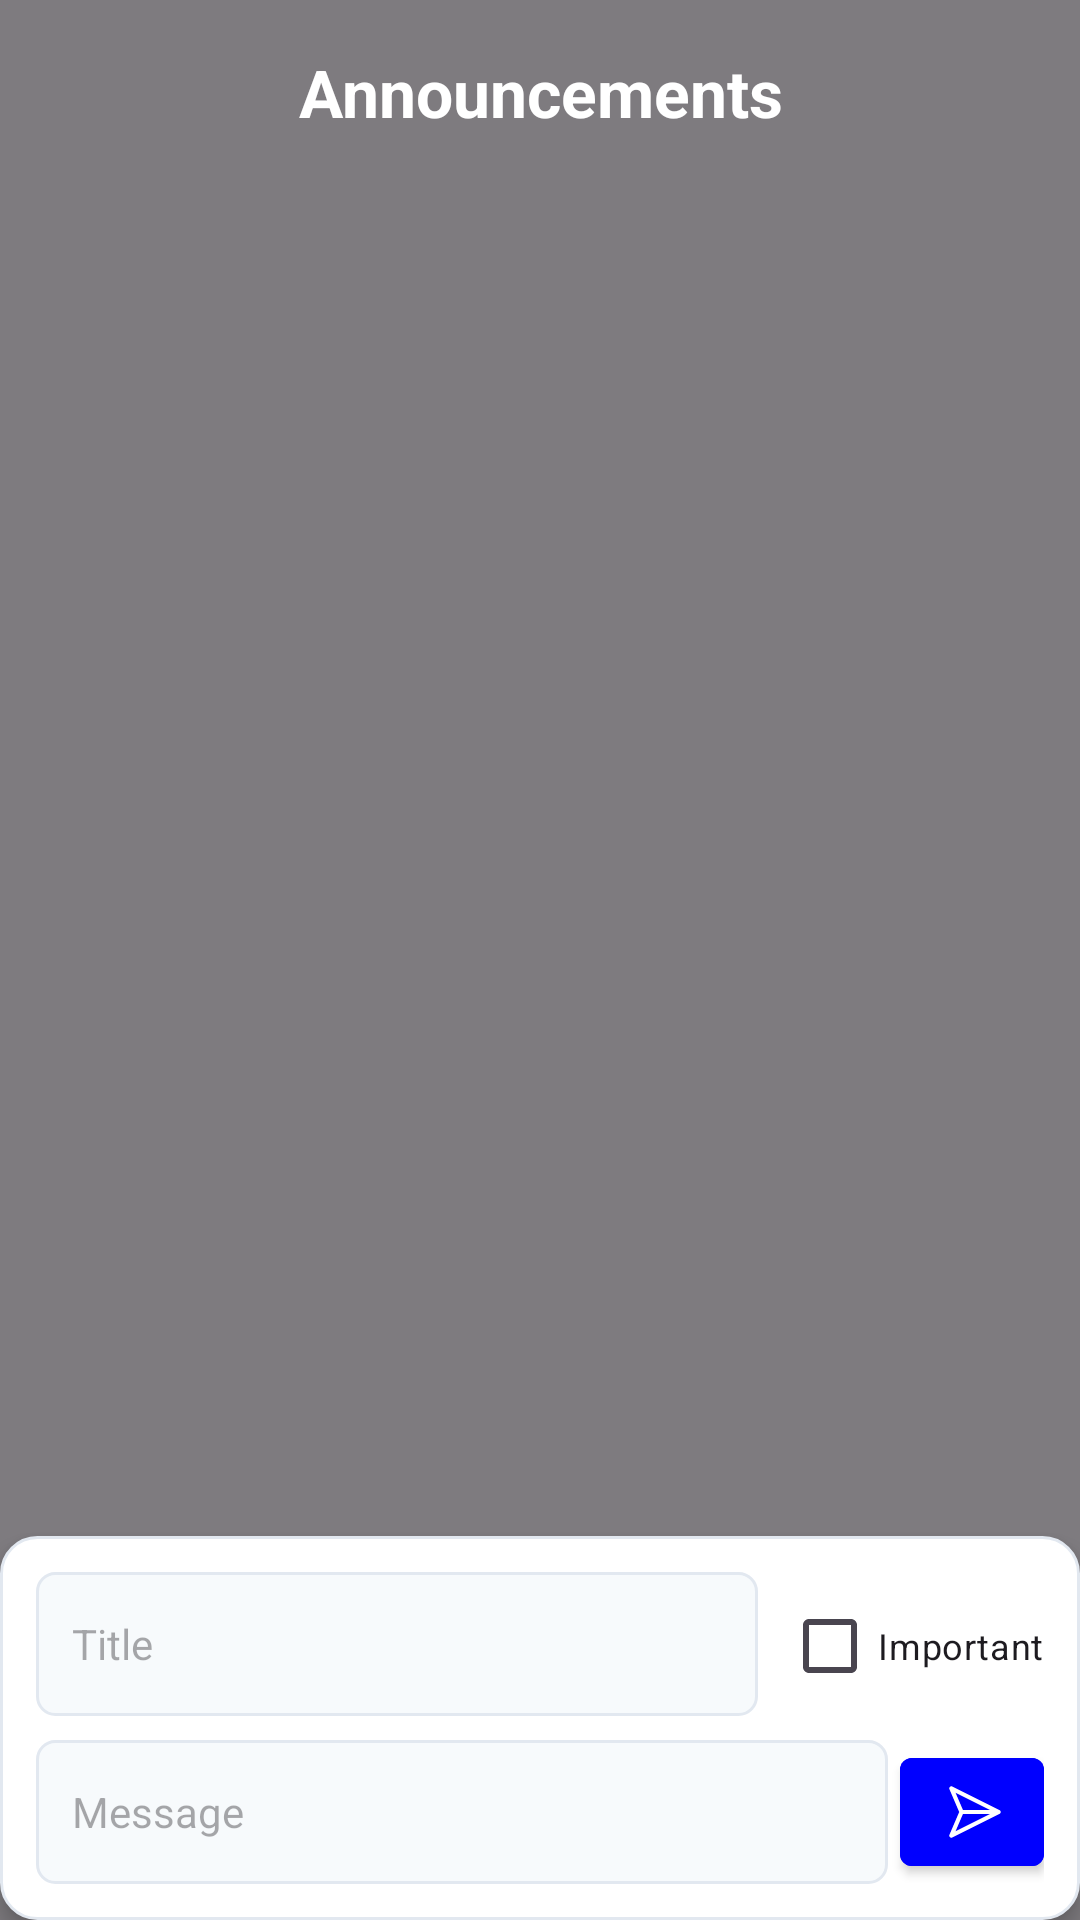

Icons on this 1080 × 1920 Android screen, each with its box as (x1, y1, x2, y2):
Send: (900, 1758, 1044, 1872)
